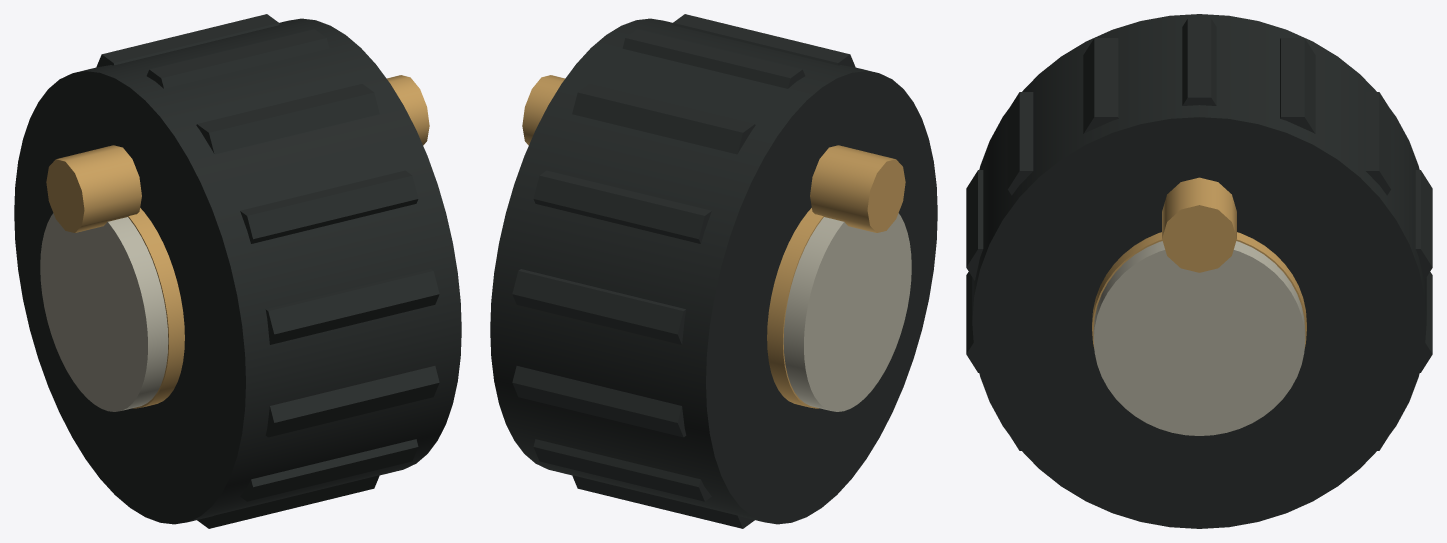
File: Courier.glb
3 renders of one model, left to right at view 1: azimuth 30°, elevation 25°; view 2: azimuth 150°, elevation 25°; view 3: azimuth 270°, elevation 25°, orthographic. The views are drawn at different scales.
Visible parts, largest first — view 1: Handwheel, Flute (×8), Hub, Winding stud (×2), Hub cap; view 2: Handwheel, Flute (×8), Hub, Winding stud (×2), Hub cap; view 3: Handwheel, Hub, Flute (×9), Winding stud, Hub cap.
Boxes of the visible parts, box(x1,y1,x2,y2) form: Handwheel: box(14, 18, 461, 524); Flute (×8): box(96, 14, 439, 528); Hub: box(40, 213, 168, 411); Winding stud (×2): box(46, 75, 429, 232); Hub cap: box(128, 208, 184, 408); Handwheel: box(490, 18, 937, 524); Flute (×8): box(512, 14, 855, 528); Hub: box(783, 213, 911, 411); Winding stud (×2): box(522, 75, 905, 232); Hub cap: box(767, 208, 823, 408); Handwheel: box(972, 14, 1426, 528); Hub: box(1093, 241, 1305, 435); Flute (×9): box(966, 18, 1432, 372); Winding stud: box(1162, 177, 1236, 272); Hub cap: box(1092, 232, 1306, 348).
Bounding box in the file's own units: 0.48 × 0.5788 × 0.5733.
